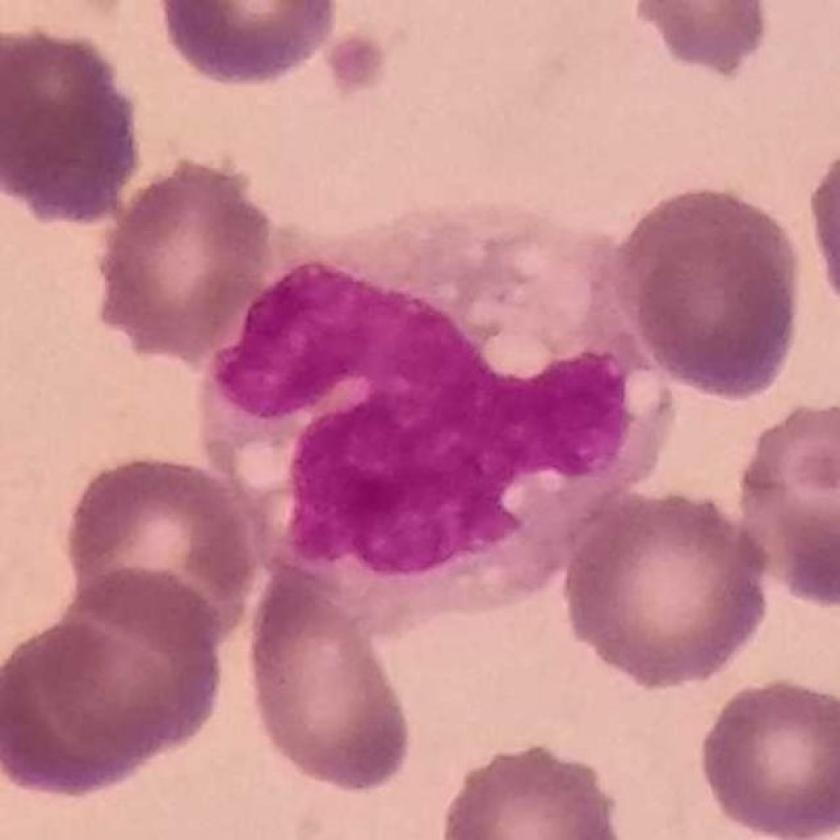monocyte: (201, 192, 692, 625)
